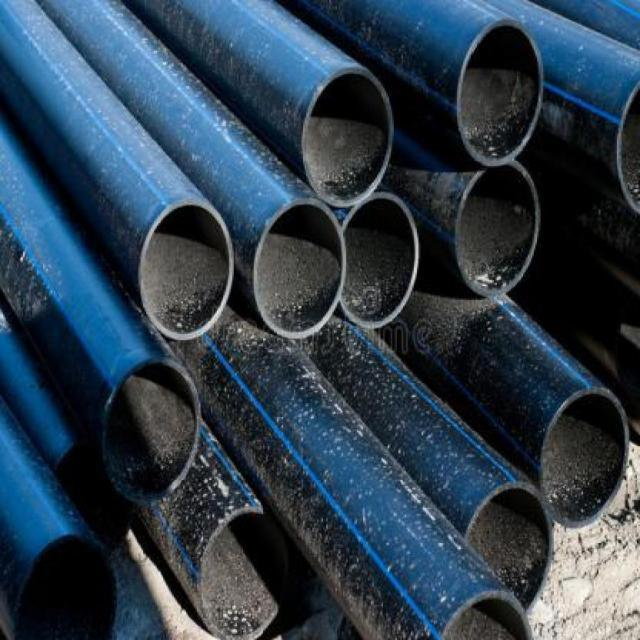pipe: (103, 358, 201, 500), (139, 198, 233, 340), (251, 201, 346, 340), (538, 386, 629, 528), (456, 19, 544, 164), (303, 66, 394, 205), (199, 507, 290, 639), (464, 482, 554, 615), (454, 162, 541, 296), (11, 534, 119, 639), (339, 194, 419, 329), (438, 586, 535, 640)
